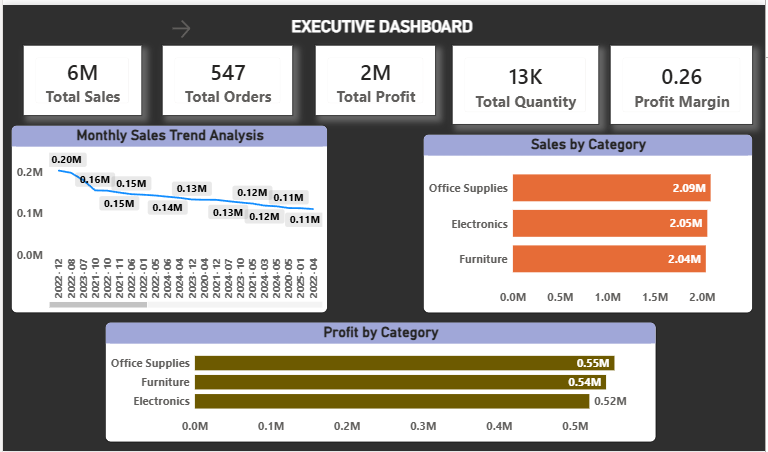

What the dashboard file says about the page in this screenshot:
{"tool":"powerbi","page":{"name":"Page 1","canvas":[1280,750],"ordinal":0},"visuals":[{"type":"shape","title":"EXECUTIVE DASHBOARD","box":[436.7,20.2,399.8,47],"z":0},{"type":"cardVisual","fields":{"Data":["Sales.Total Sales"]},"box":[33.6,67.2,199.9,119.3],"z":1000},{"type":"cardVisual","fields":{"Data":["Sales.Total Orders"]},"box":[267.1,67.2,220.1,119.3],"z":2000},{"type":"cardVisual","fields":{"Data":["Sales.Total Profit"]},"box":[524.1,67.2,203.3,119.3],"z":3000},{"type":"cardVisual","fields":{"Data":["Sales.Total Quantity"]},"box":[754.2,67.2,246.9,134.4],"z":4000},{"type":"lineChart","title":"Monthly Sales Trend Analysis","fields":{"Y":["Sales.Total Sales"],"Category":["Sales.Year_Month"]},"box":[13.4,201.6,532.5,315.8],"z":5000},{"type":"clusteredBarChart","title":" Sales by Category","fields":{"Y":["Sales.Total Sales"],"Category":["Sales.Category"]},"box":[705.5,216.7,554.3,300.7],"z":6000},{"type":"clusteredBarChart","title":"Profit by Category","fields":{"Category":["Sales.Category"],"Y":["Sales.Total Profit"]},"box":[171.3,532.5,925.6,201.6],"z":7000},{"type":"actionButton","box":[279.6,20.2,99.4,40.4],"z":8000},{"type":"cardVisual","fields":{"Data":["Sales.Profit Margin"]},"box":[1019.6,67.2,240.2,134.4],"z":8005}]}

Visuals, with their boxes in screenshot pixels (x1, y1, x2, y2), scaled from the page's 1280x750 canvas onto the 768x452 screenshot:
"EXECUTIVE DASHBOARD" shape: x1=262 y1=12 x2=502 y2=40
cardVisual - Sales.Total Sales: x1=20 y1=40 x2=140 y2=112
cardVisual - Sales.Total Orders: x1=160 y1=40 x2=292 y2=112
cardVisual - Sales.Total Profit: x1=314 y1=40 x2=436 y2=112
cardVisual - Sales.Total Quantity: x1=453 y1=40 x2=601 y2=121
"Monthly Sales Trend Analysis" lineChart: x1=8 y1=121 x2=328 y2=312
" Sales by Category" clusteredBarChart: x1=423 y1=131 x2=756 y2=312
"Profit by Category" clusteredBarChart: x1=103 y1=321 x2=658 y2=442
actionButton: x1=168 y1=12 x2=227 y2=37
cardVisual - Sales.Profit Margin: x1=612 y1=40 x2=756 y2=121
